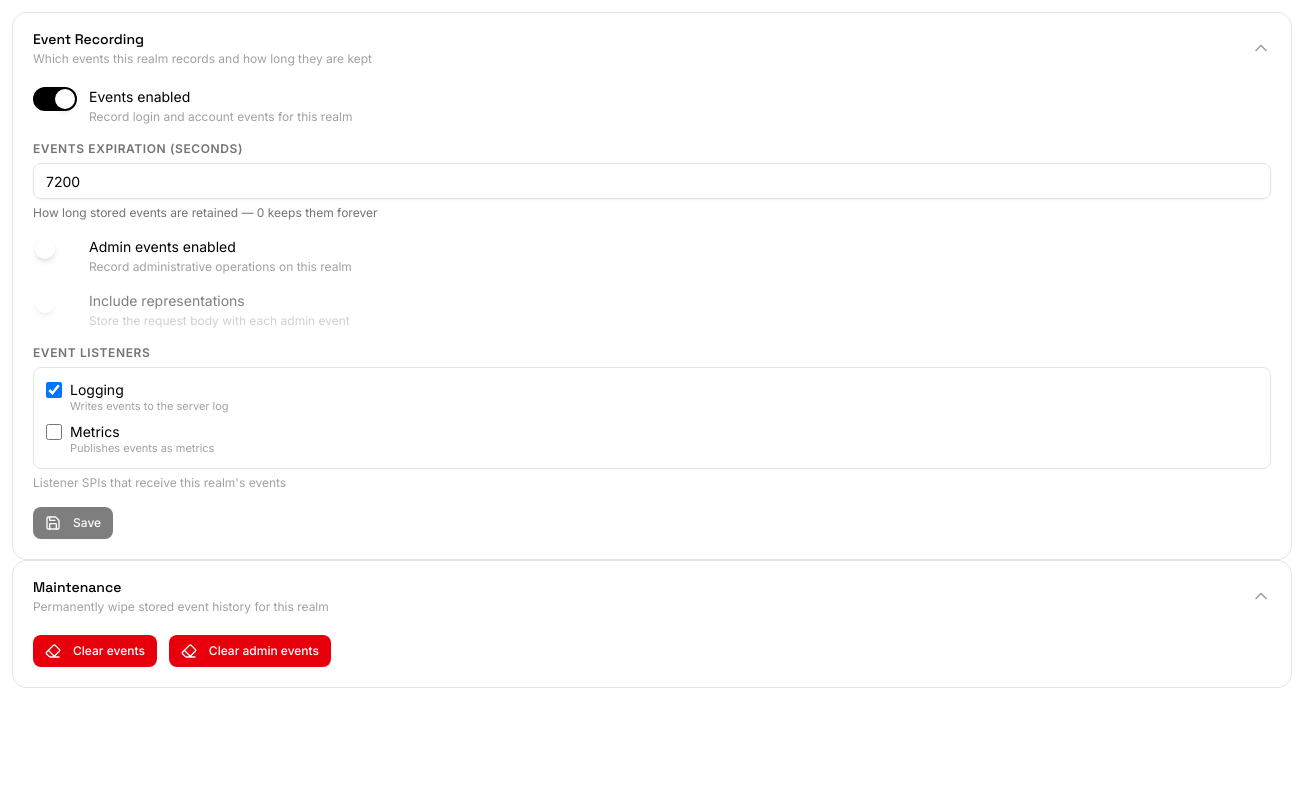
EventsConfigSection › shows the server error inline when saving fails
Step 1. Click the switch labelled "Events enabled" → (140, 96), box x1=89 y1=88 x2=190 y2=105
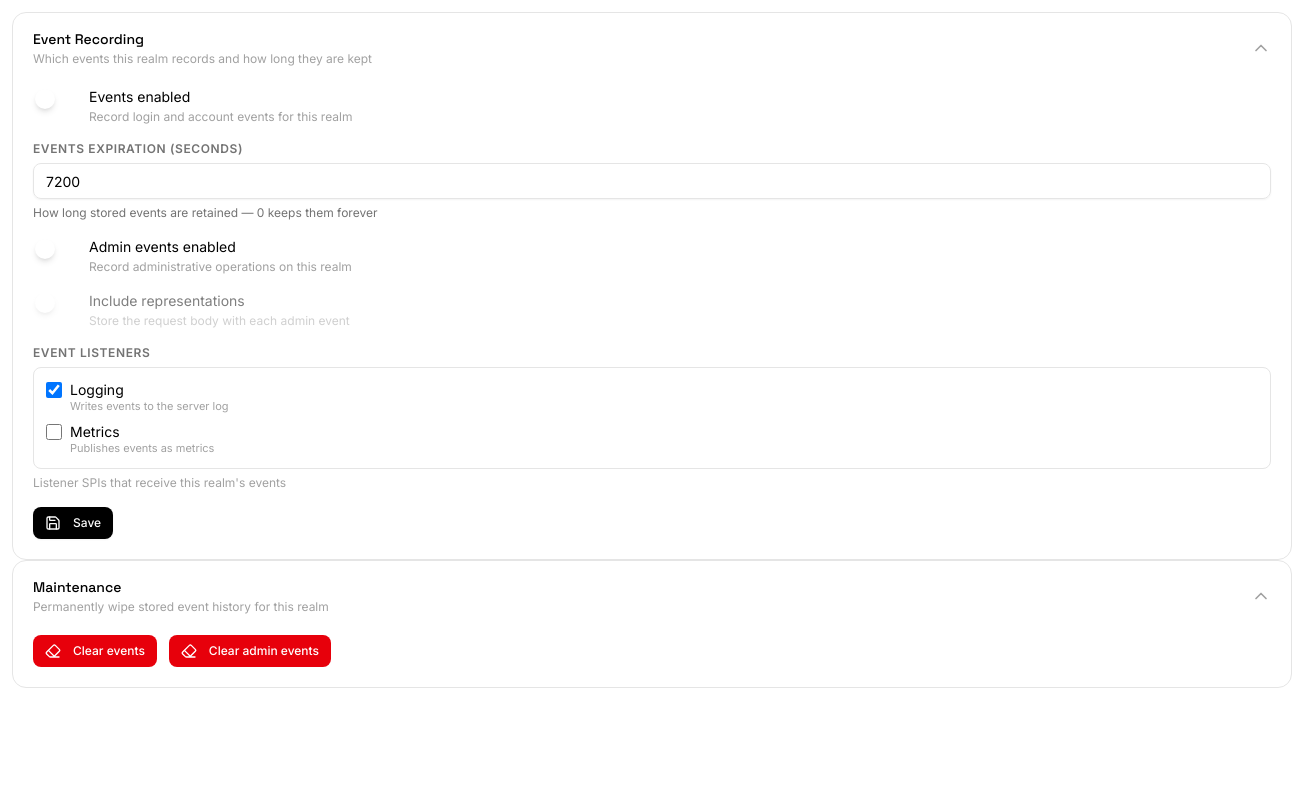
Step 2. Click the button "Save" → (73, 522), box x1=33 y1=506 x2=113 y2=538
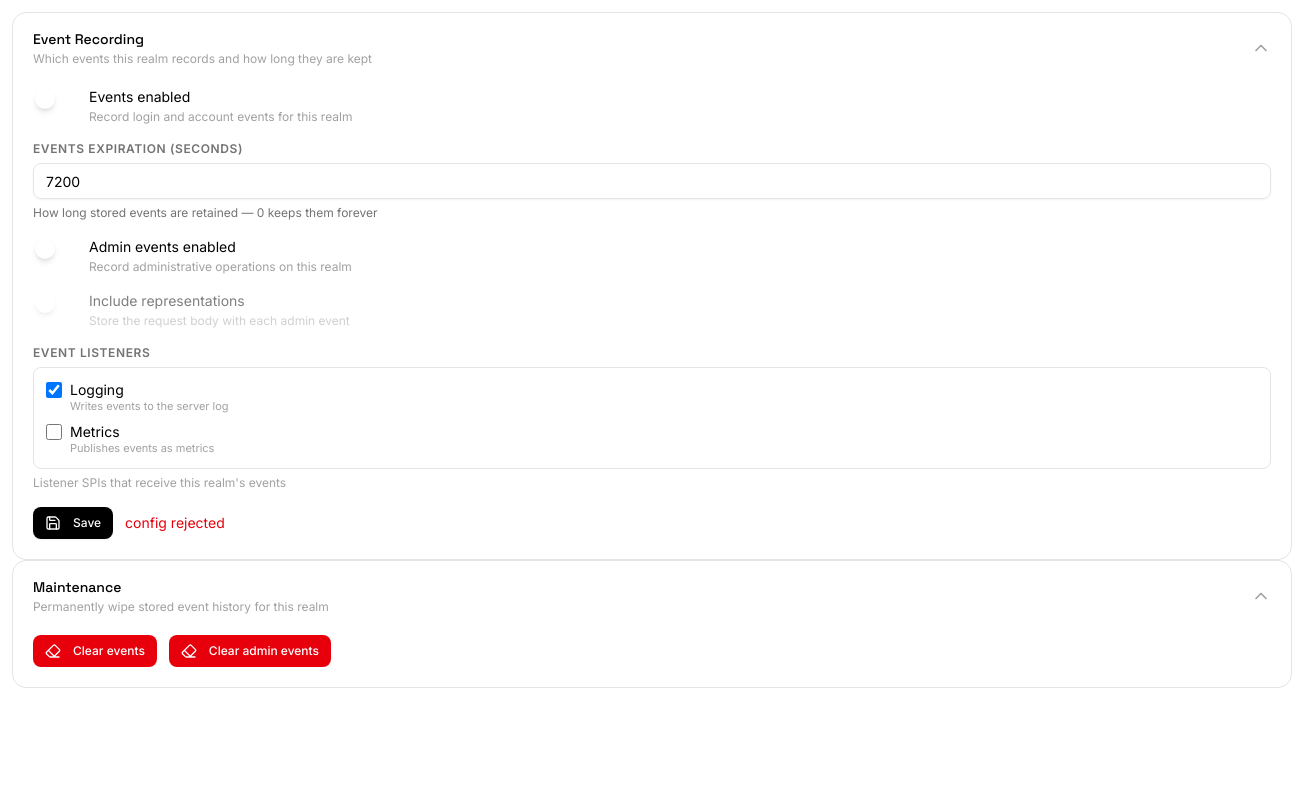
Check: the text "config rejected" is shown, box x1=125 y1=512 x2=225 y2=532
